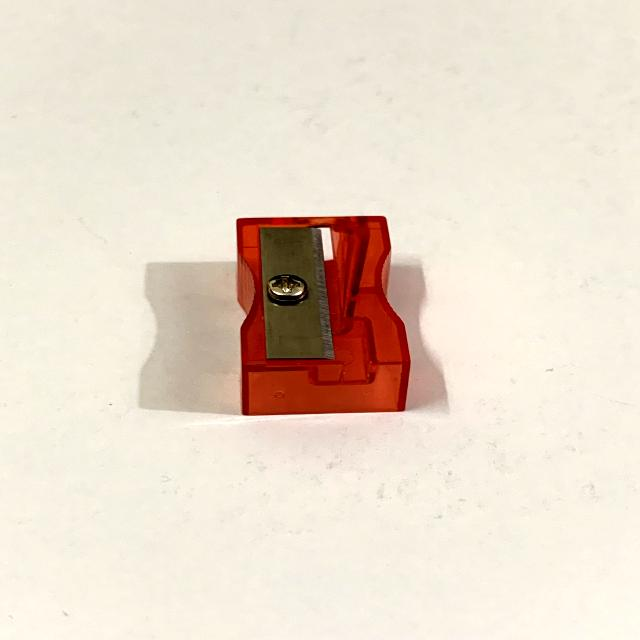Sharpner: (186, 197, 448, 433)
